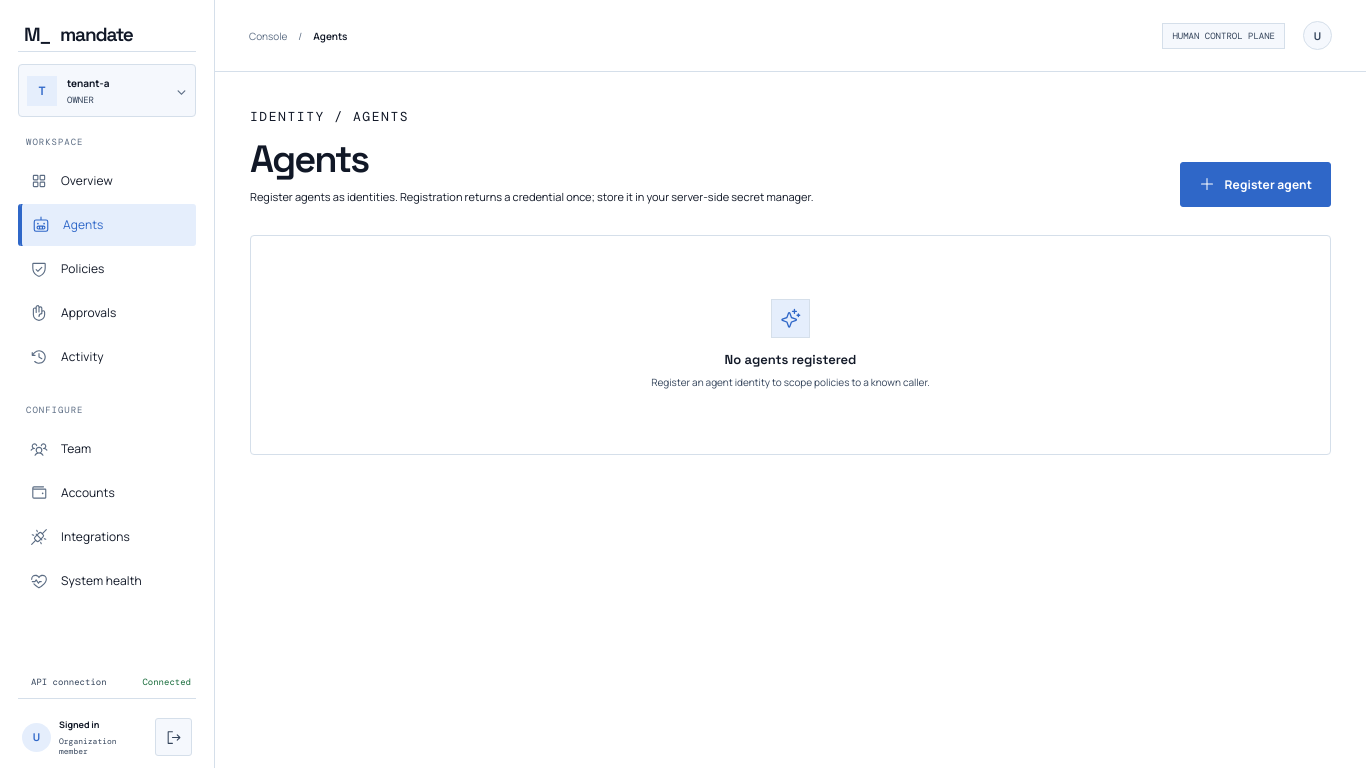
it: switches shell and page requests together and closes old-tenant forms
Click the button "Register agent" at x=1255, y=184, box left=1180, top=162, right=1331, bottom=207
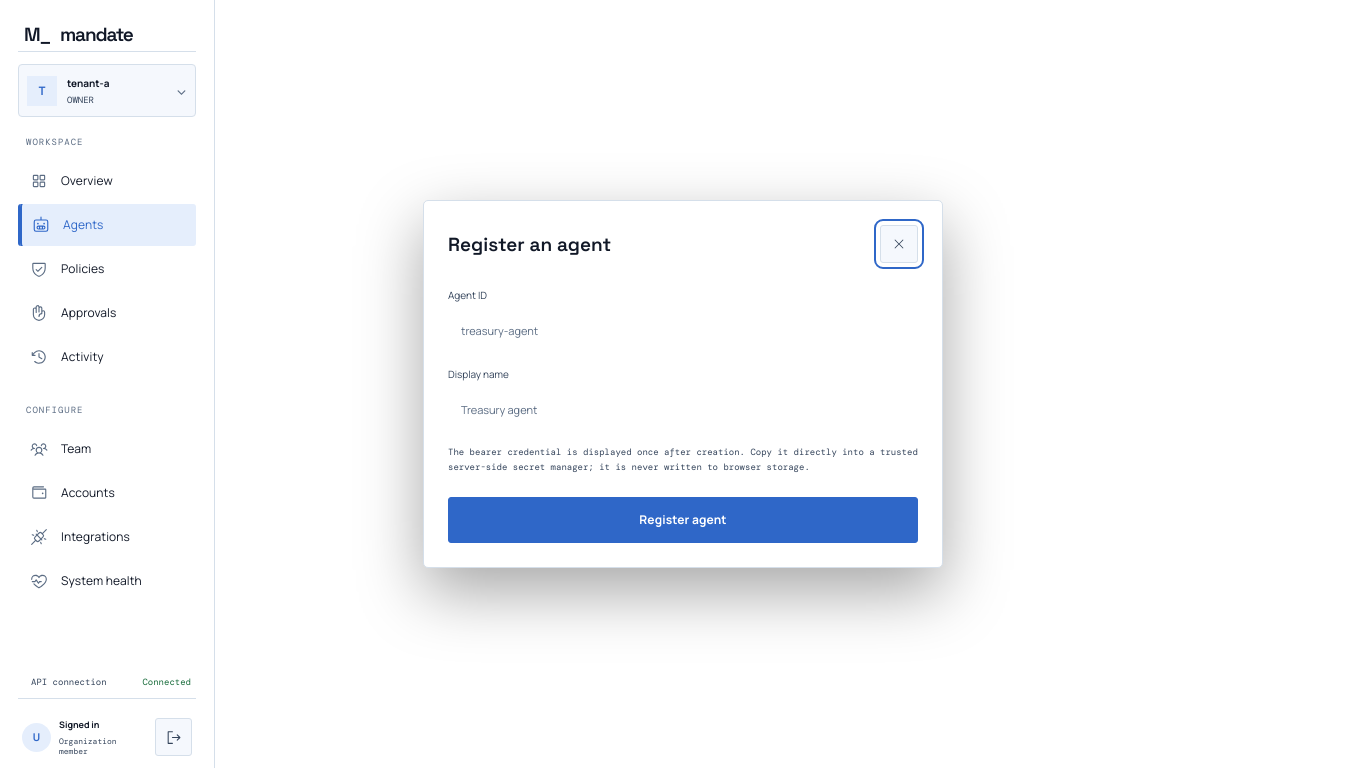
Expected: the dialog is shown, left=423, top=200, right=943, bottom=568
Click the button "T tenant-a OWNER ⌄" at x=107, y=90, box left=18, top=64, right=196, bottom=117
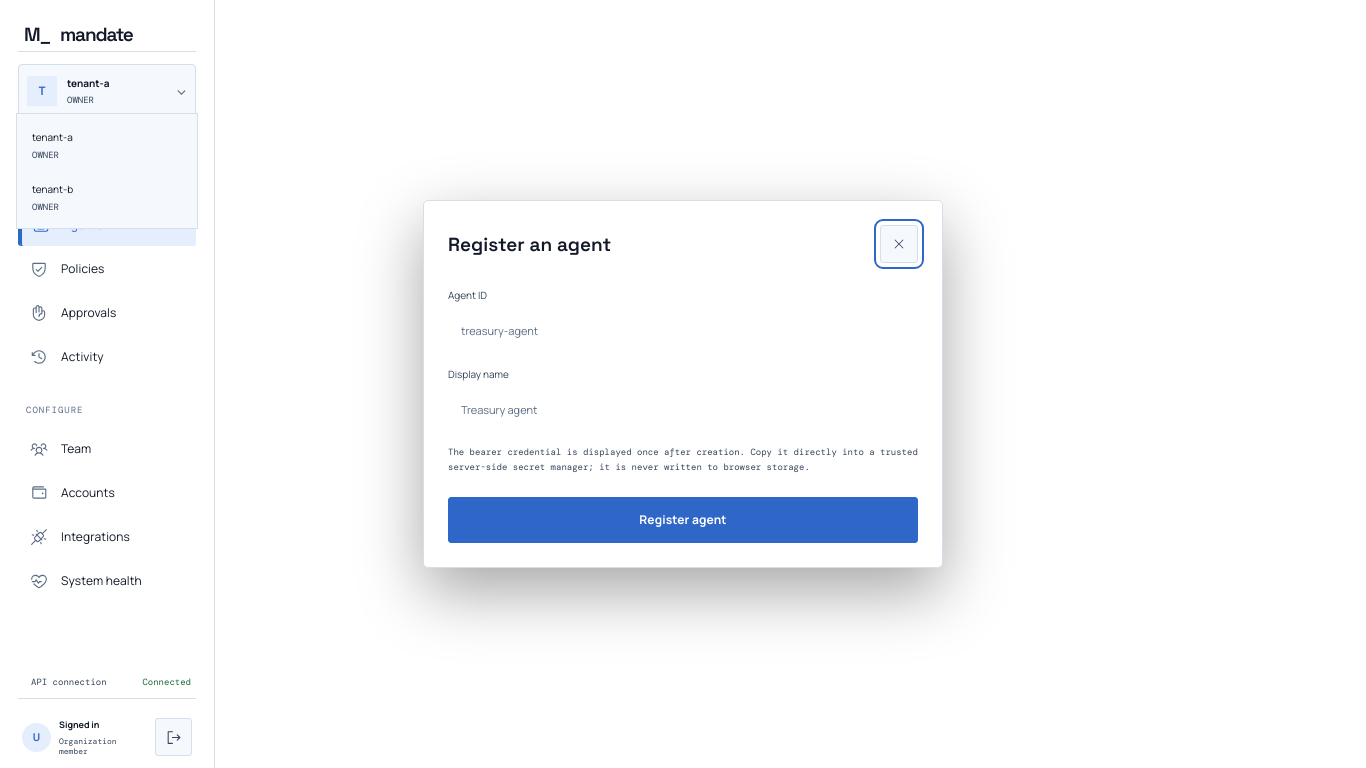
Click the menu item "tenant-b OWNER" at x=107, y=197, box left=22, top=171, right=192, bottom=223
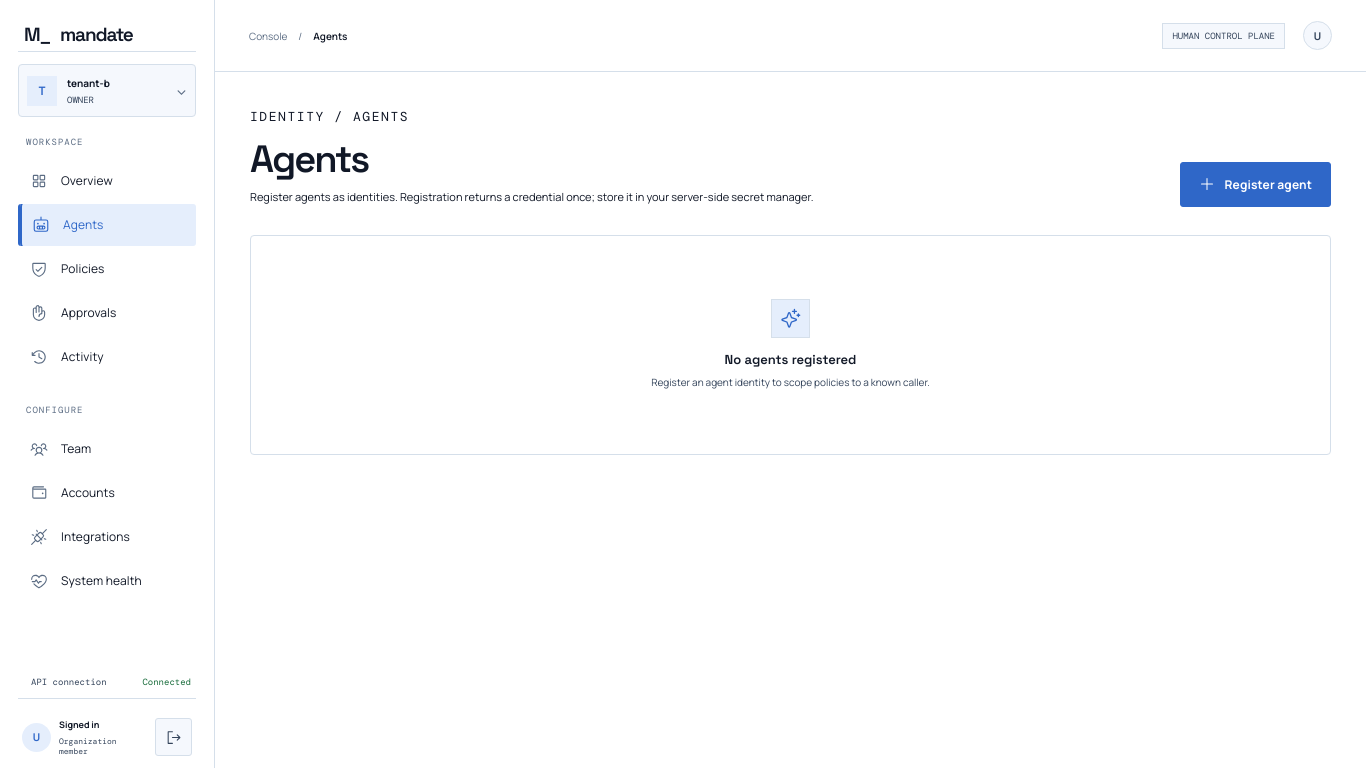
Expected: the button is gone
